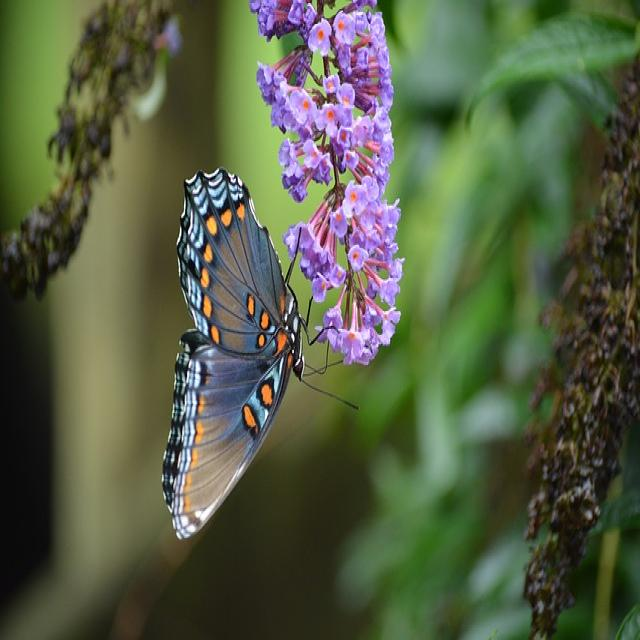butterfly: (162, 168, 305, 542)
